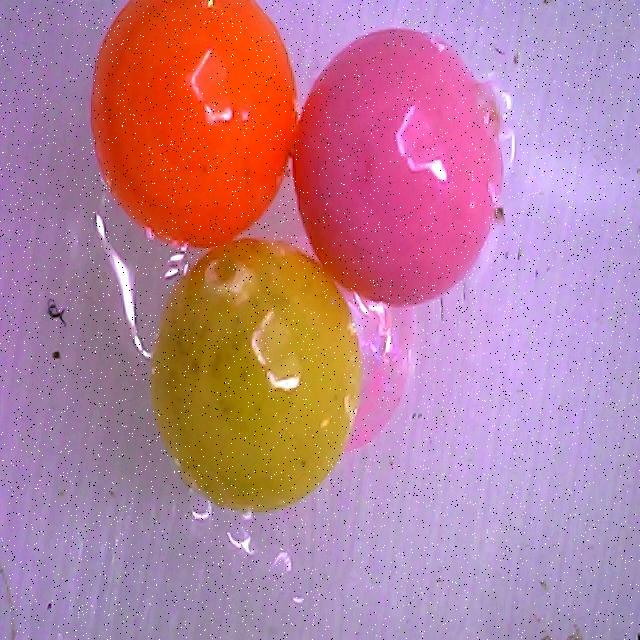beads: (141, 234, 371, 518), (291, 28, 505, 307), (91, 1, 297, 246)
